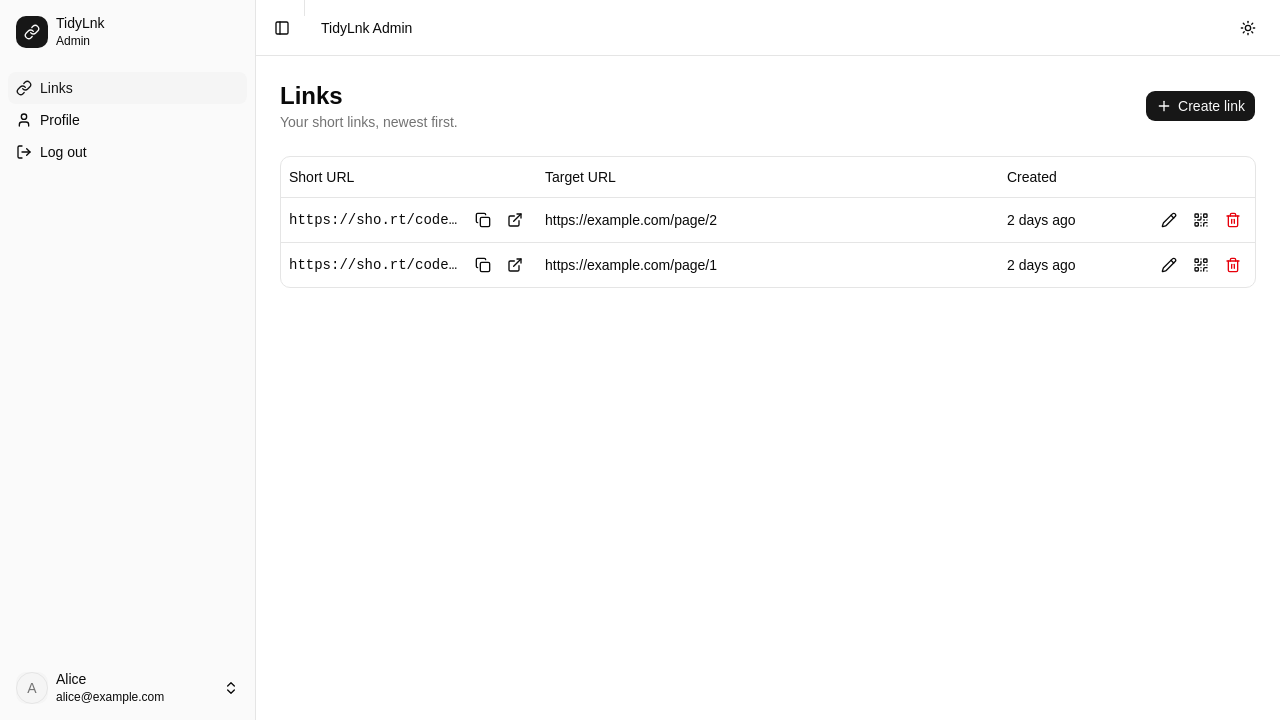
it: Links page › deletes a link only after confirmation
Click the button named "Delete https://sho.rt/code2xx" at point(1233, 220), box [1219, 206, 1247, 234]
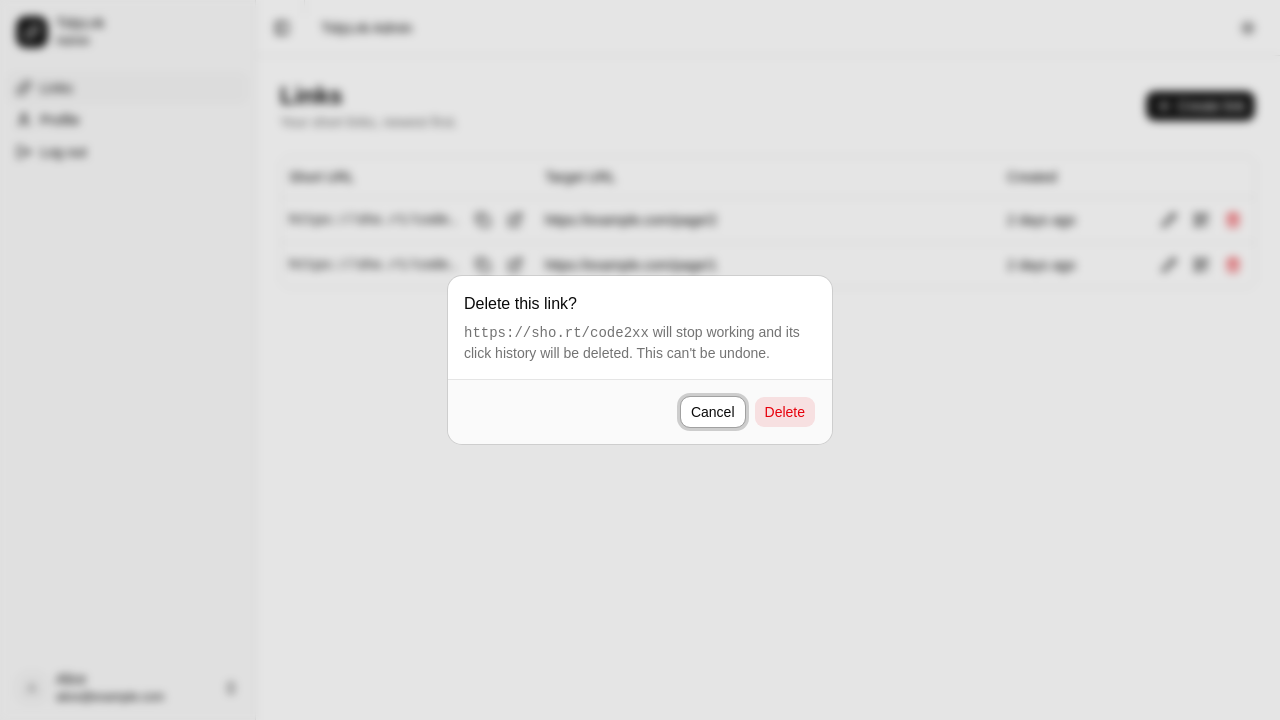
Click the button "Cancel" at point(713, 412), box [680, 396, 746, 428]
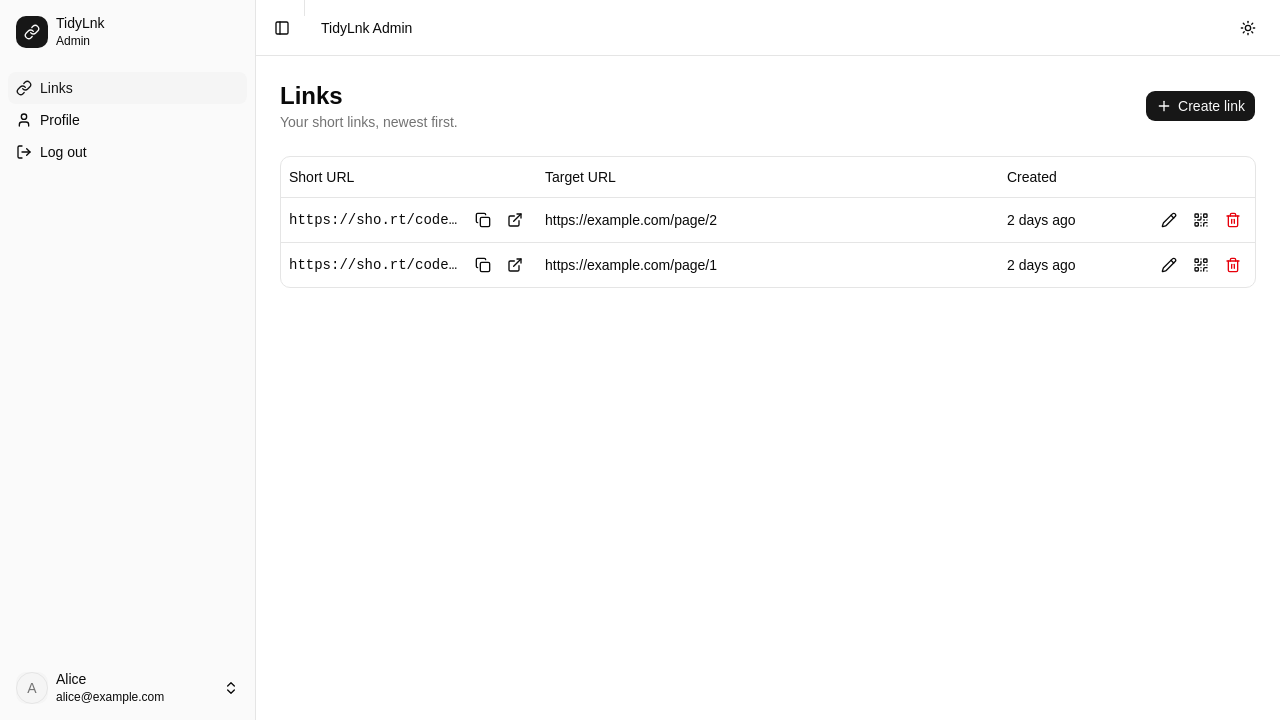
Expected: the dialog is gone
Click the button named "Delete https://sho.rt/code2xx" at point(1233, 220), box [1219, 206, 1247, 234]
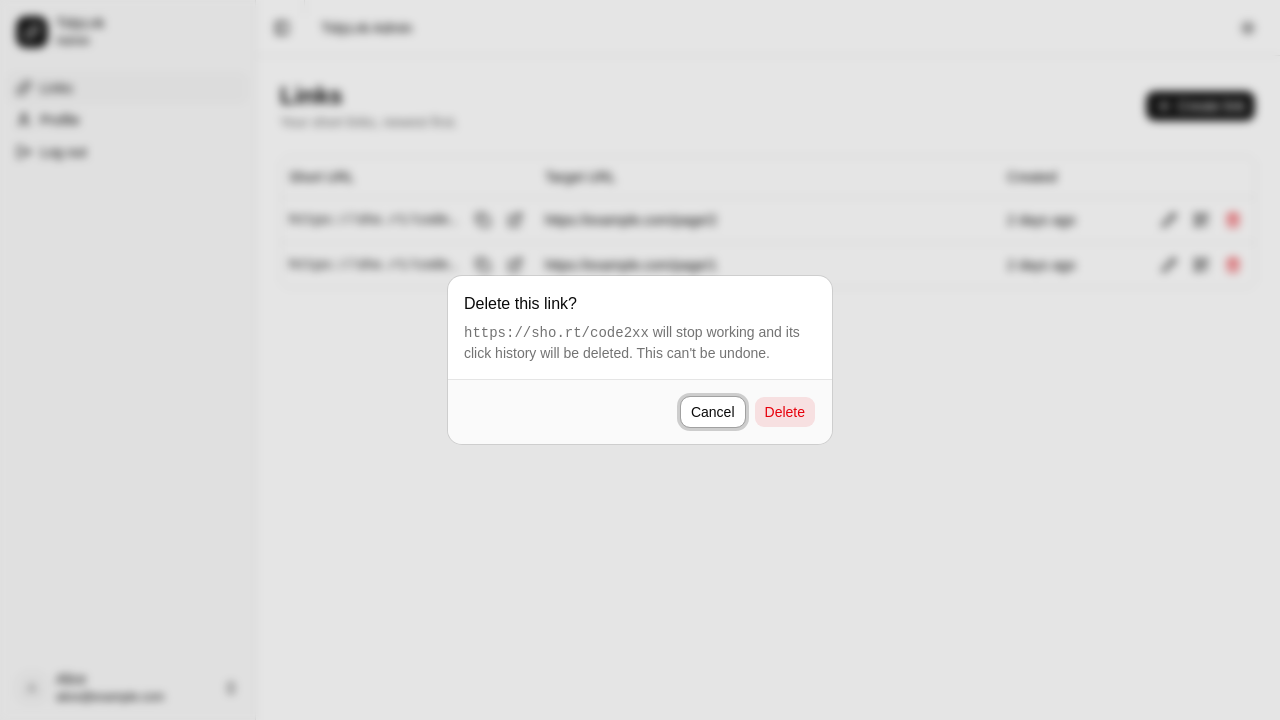
Expected: the dialog shows "https://sho.rt/code2xx", [464, 325, 649, 341]
Click the button "Delete" at point(785, 412), box [754, 396, 816, 428]
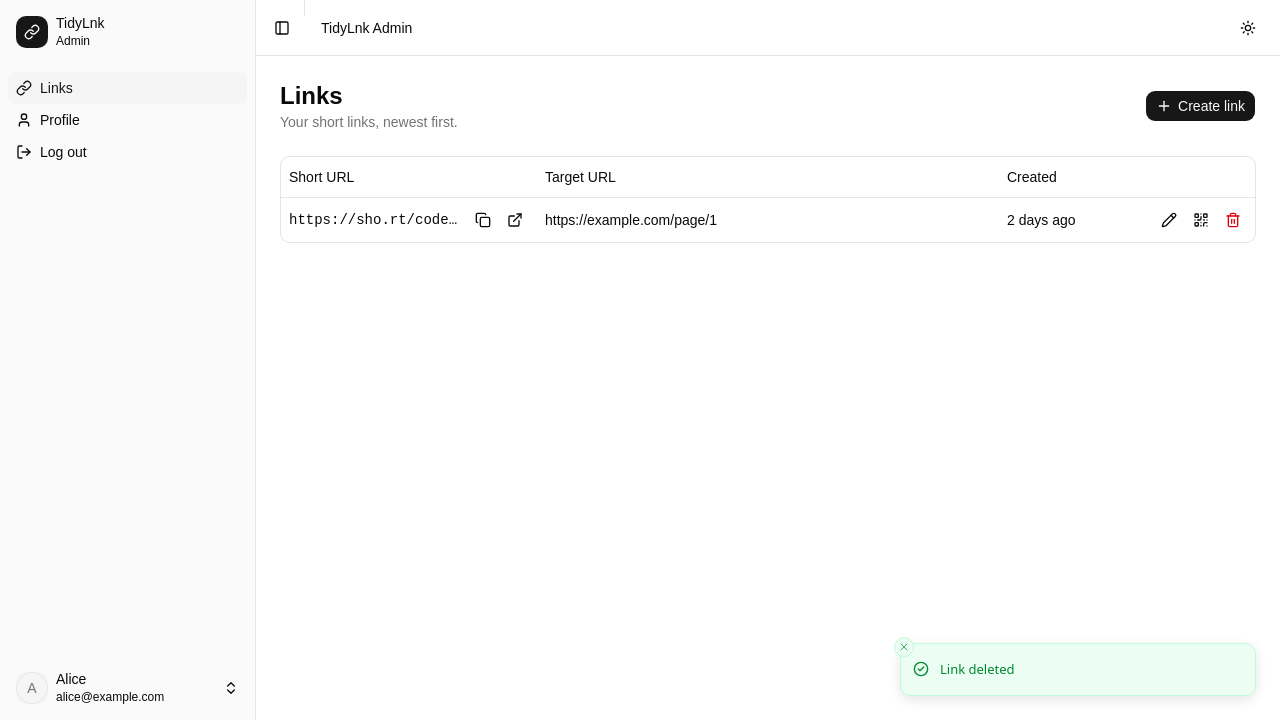
Expected: the text "https://sho.rt/code1xx" is shown, [289, 210, 465, 230]
Expected: the dialog is gone
Expected: the text "https://sho.rt/code2xx" is gone
